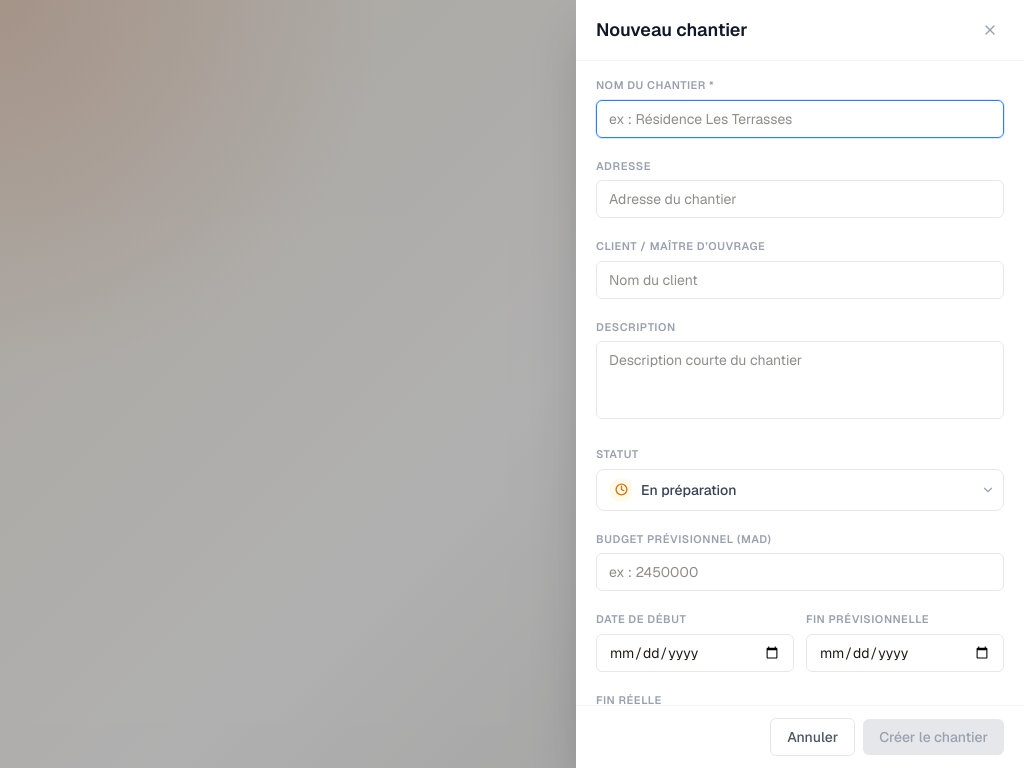
Test: ProjectHubFormPanel — create mode › disables submit until a name is entered
Expected: the button "Créer le chantier" is disabled, [863,719,1004,755]
In the field with placeholder "ex : Résidence Les Terrasses": (800, 118) [596,100,1004,138], type "Nouveau site"
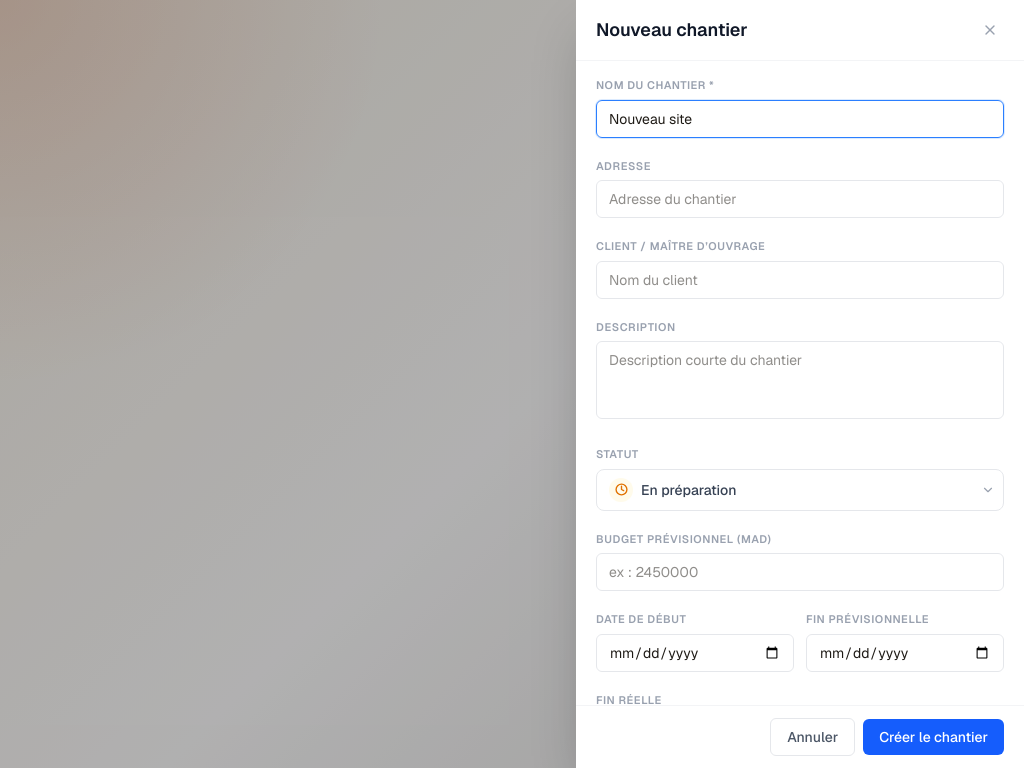
Now the button "Créer le chantier" is enabled, box [863,719,1004,755]
